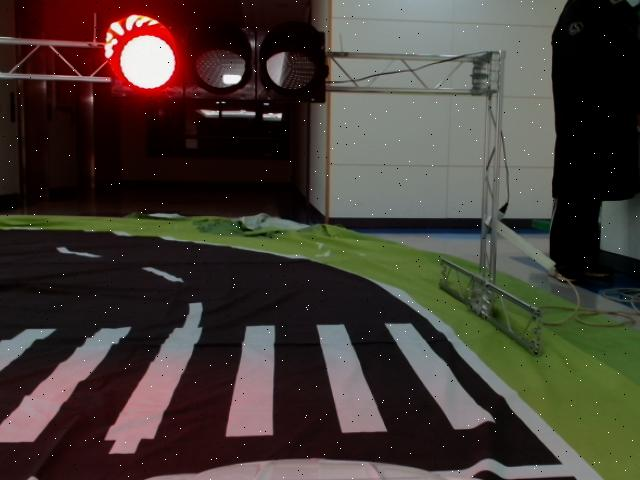crosswalk: (0, 324, 497, 443)
traffic light-red-: (107, 19, 326, 102)
